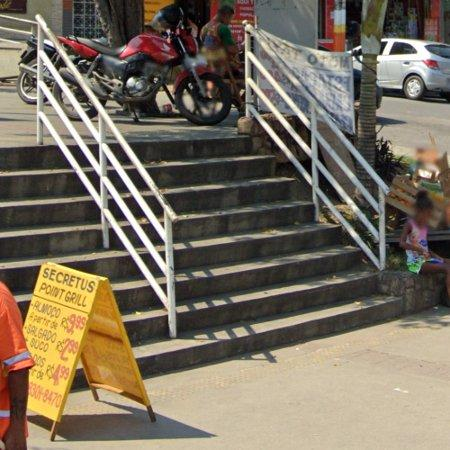stairs: (0, 137, 402, 377)
